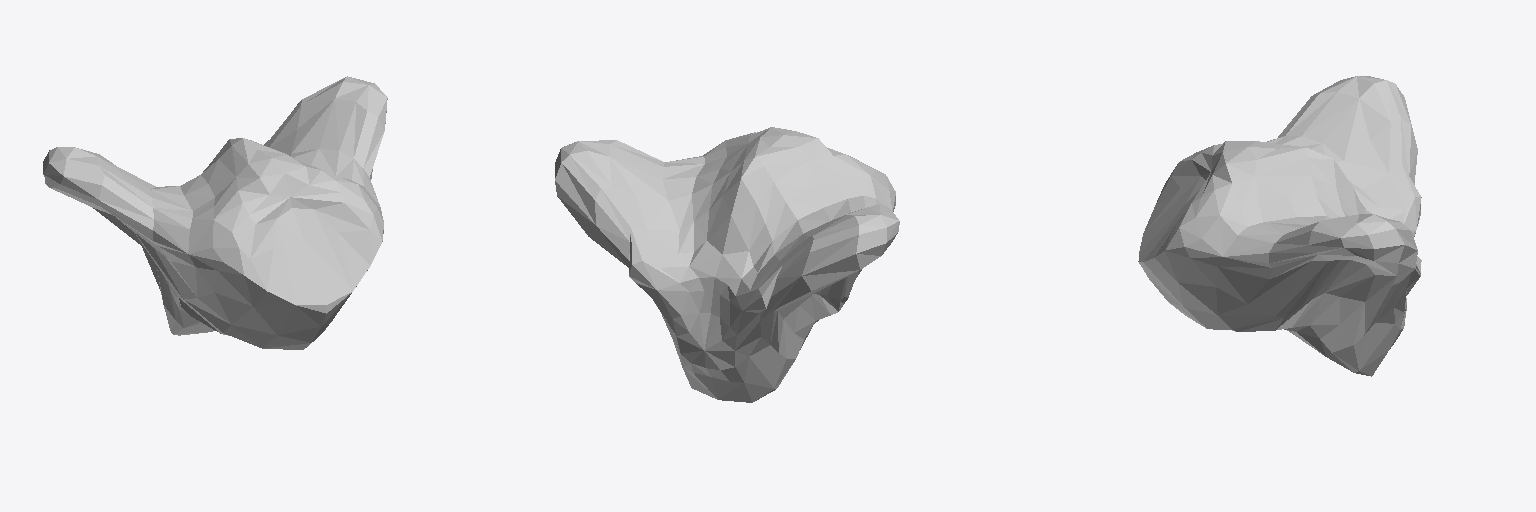
File: Vertibrae.obj
The picture shows the model from 3 angles: view 1: azimuth 30°, elevation 25°; view 2: azimuth 150°, elevation 25°; view 3: azimuth 270°, elevation 25°; orthographic projection.
Visible parts, largest first — view 1: obj0; view 2: obj0; view 3: obj0.
Boxes of the visible parts, box(x1,y1,x2,y2) form: obj0: box(43, 76, 387, 349); obj0: box(555, 127, 899, 402); obj0: box(1138, 76, 1421, 376).
Bounding box in the file's own units: 2.82 × 1.78 × 2.09.